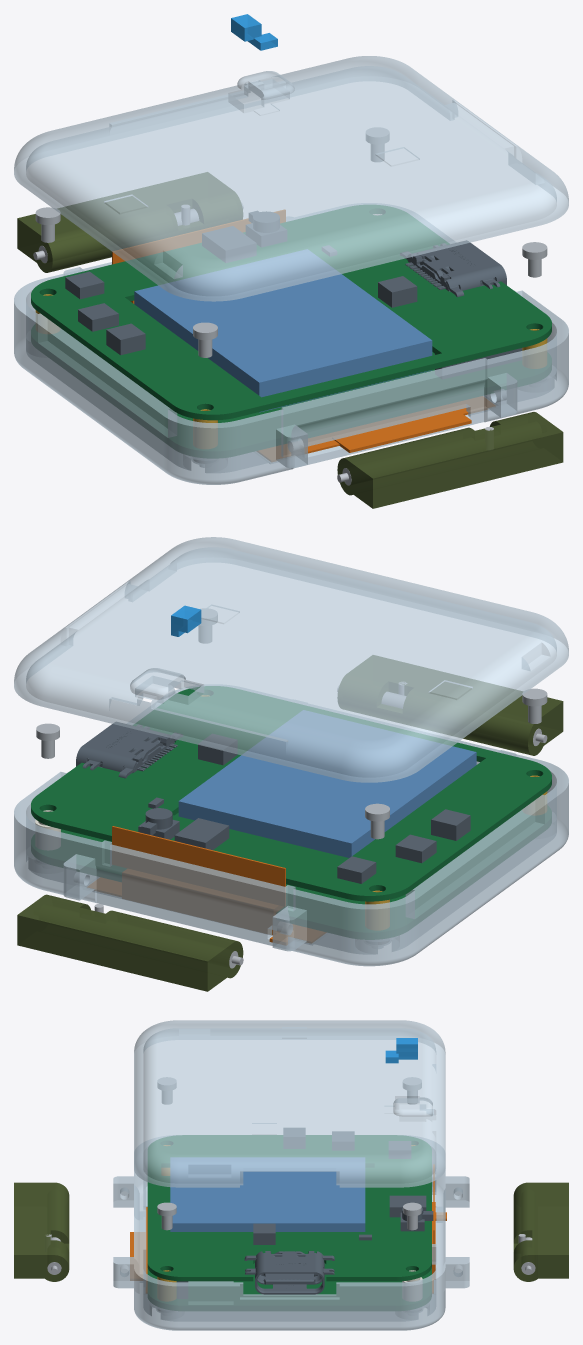
Rendered from exploded.glb.
3 renders of one model, top to bottom at view 1: azimuth 30°, elevation 25°; view 2: azimuth 150°, elevation 25°; view 3: azimuth 270°, elevation 25°, orthographic. The views are drawn at different scales.
Parts seen in each view (by area): view 1: cover, tray, MCU_board, battery_302025_max, D17_board, south_woven_strap_loop, north_woven_strap_loop, MCU_USB_J400, R14_FPC_south_AB, R14_FPC_box, FPC_ANT_2G4, MCU_SW300 (+10 smaller); view 2: cover, tray, MCU_board, battery_302025_max, north_woven_strap_loop, south_woven_strap_loop, D17_board, FPC_ANT_2G4, R14_FPC_north_tails, MCU_USB_J400, MCU_SW300, MCU_U12 (+11 smaller); view 3: cover, MCU_board, tray, battery_302025_max, D17_board, south_woven_strap_loop, north_woven_strap_loop, MCU_USB_J400, R14_FPC_south_AB, switch_plunger, MCU_SW300, MCU_U17 (+6 smaller).
Part boxes in pixels (x1,y1,x2,y2): cover: (14, 56, 568, 301); tray: (14, 203, 568, 484); MCU_board: (31, 205, 551, 420); battery_302025_max: (134, 249, 432, 412); D17_board: (31, 325, 551, 457); south_woven_strap_loop: (337, 412, 563, 508); north_woven_strap_loop: (17, 172, 242, 272); MCU_USB_J400: (400, 240, 506, 297); R14_FPC_south_AB: (332, 408, 471, 452); R14_FPC_box: (257, 396, 494, 461); FPC_ANT_2G4: (112, 209, 285, 264); MCU_SW300: (202, 226, 256, 262); cover: (14, 537, 568, 782); tray: (14, 684, 568, 966); MCU_board: (31, 686, 551, 901); battery_302025_max: (178, 710, 476, 857); north_woven_strap_loop: (17, 894, 243, 991); south_woven_strap_loop: (337, 655, 563, 755); D17_board: (31, 806, 551, 939); FPC_ANT_2G4: (112, 826, 285, 905); R14_FPC_north_tails: (122, 869, 282, 935); MCU_USB_J400: (76, 722, 182, 778); MCU_SW300: (174, 818, 229, 850); MCU_U12: (431, 809, 470, 840); cover: (134, 1020, 445, 1187); MCU_board: (147, 1135, 431, 1281); tray: (113, 1135, 469, 1330); battery_302025_max: (170, 1157, 365, 1231); D17_board: (147, 1168, 431, 1310); south_woven_strap_loop: (14, 1182, 69, 1281); north_woven_strap_loop: (513, 1182, 568, 1281); MCU_USB_J400: (244, 1251, 334, 1294); R14_FPC_south_AB: (130, 1232, 147, 1280); switch_plunger: (385, 1038, 417, 1063); MCU_SW300: (389, 1195, 426, 1217); MCU_U17: (253, 1223, 275, 1244).
Size of the model in its own units: 0.046 by 0.0324 by 0.0712.
